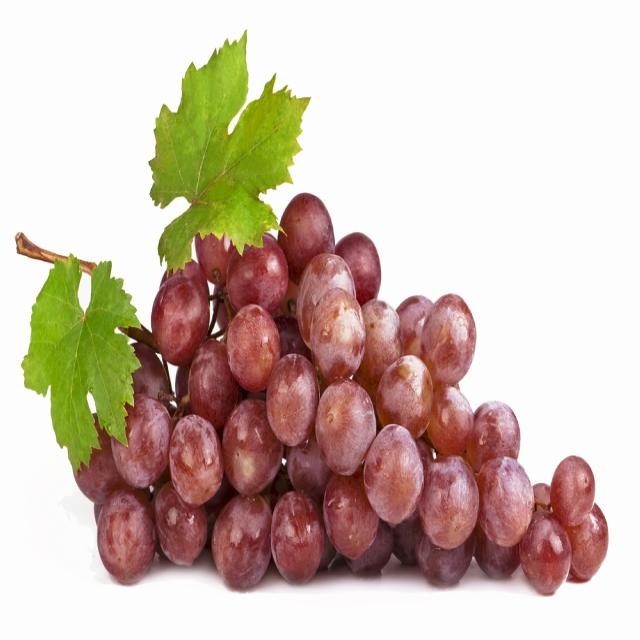grape: (79, 194, 607, 593)
